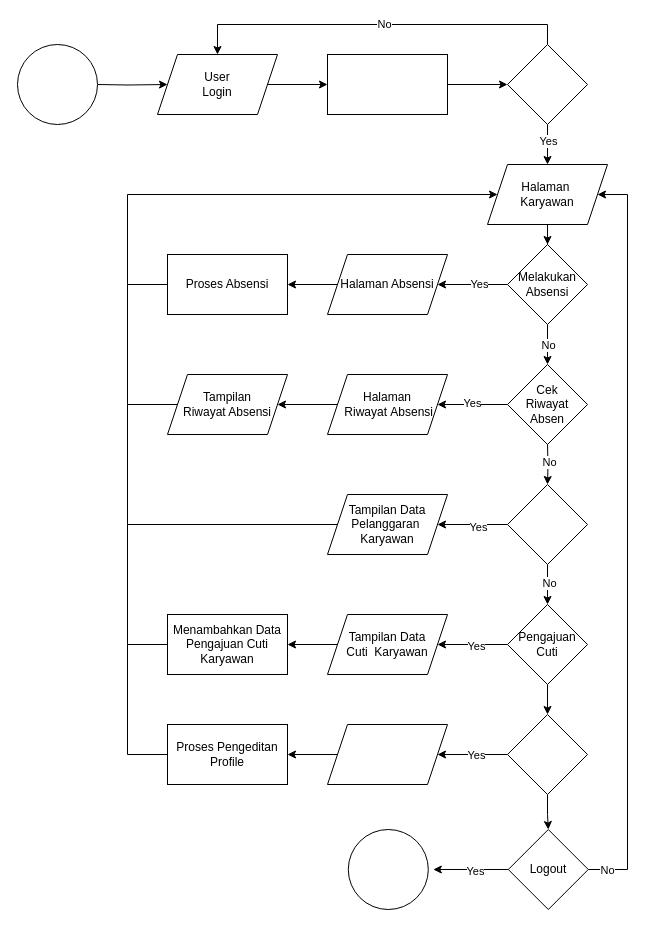
Some shapes in this 653 by 927 pixel diagram are drawn without their labels. The shapes that lost their labels are listed below. From the top down, each one's box as (x1, y1, x2, y2) in pixels, then its label:
(16, 44, 98, 124): Start
(326, 54, 448, 114): Proses Validasi
(506, 44, 588, 124): Succes?
(506, 484, 588, 564): Cek Pelangg- aran
(326, 724, 448, 784): Tampilan Profile Karyawan
(506, 714, 588, 794): Update Profile
(347, 828, 428, 910): End
